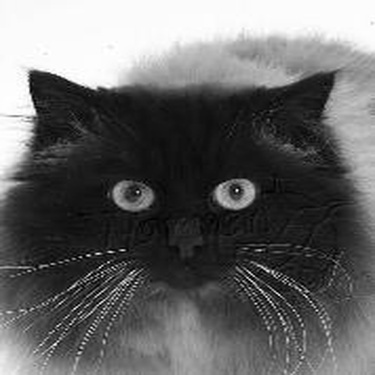cat: (2, 37, 371, 370)
